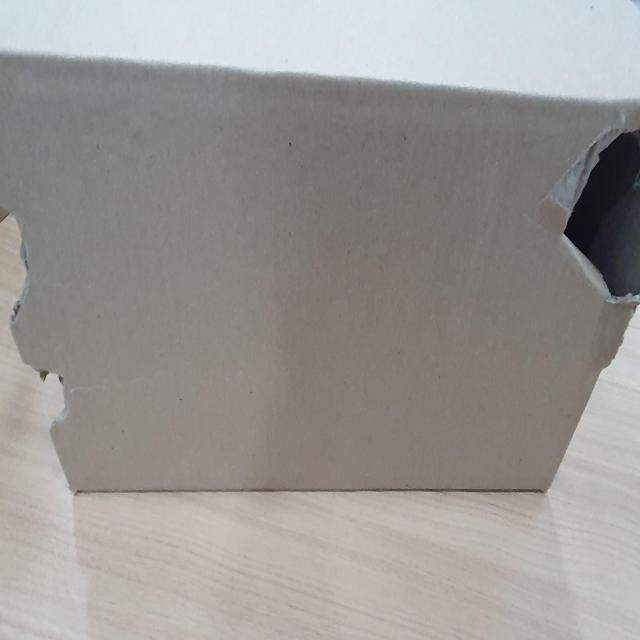damaged: (561, 97, 640, 305)
